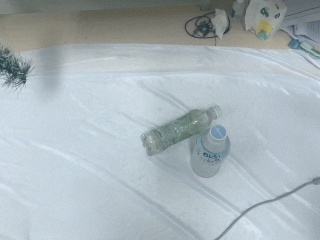bottle: (141, 106, 223, 157), (188, 124, 232, 178)
